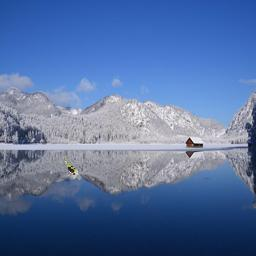Cuckoo: (63, 157, 79, 175)
